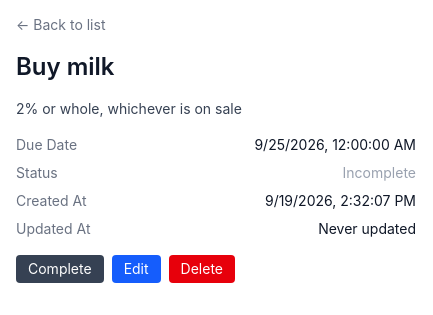
it: TodoDetailRoute › saves an edited title and returns to the read-only view showing the new value
The width and height of the screenshot is (433, 315).
Expected: the heading "Buy milk" is shown, [16,52,114,81]
Click the button "Edit" at (136, 269), box [112,255,161,283]
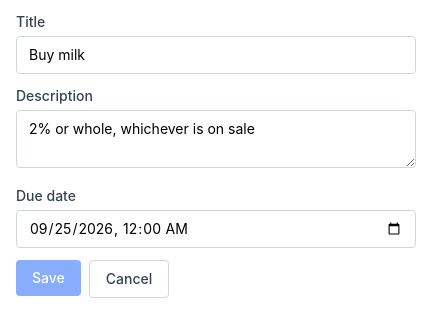
Replace the text in the field labelled "Title" with "Buy oat milk" at (216, 55), box [16,36,416,74]
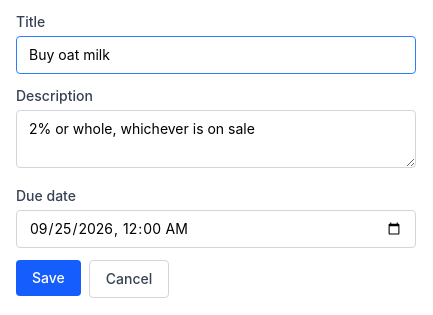
Click the button "Save" at (48, 278), box [16,260,81,296]
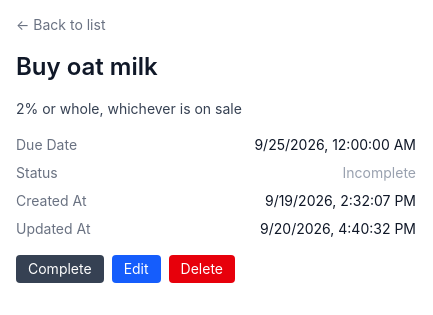
Expected: the heading "Buy oat milk" is shown, [16,52,158,81]
Expected: the button "Edit" is shown, [112,255,161,283]
